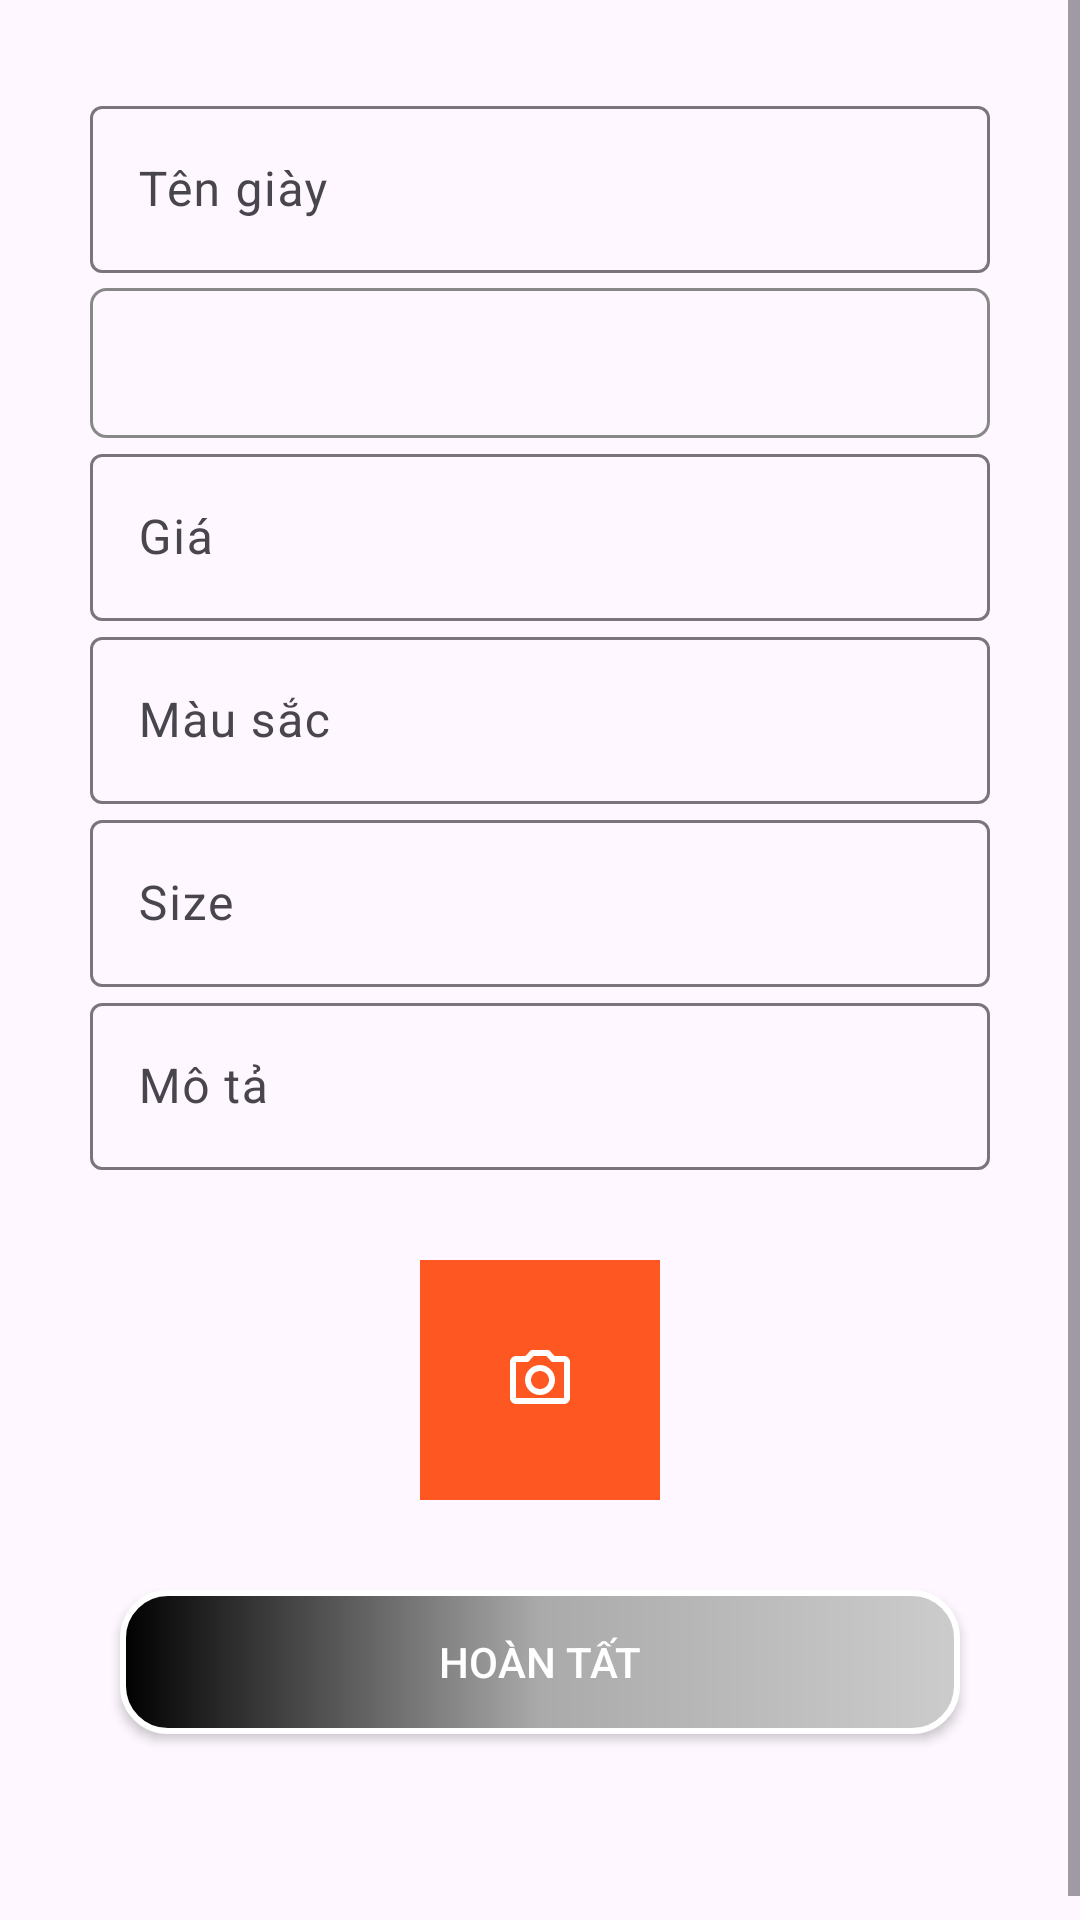

Where icons sit on this 1080px x 1920px app screen, as region(x1, y1, x2, y2):
camera: region(420, 1260, 660, 1500)
